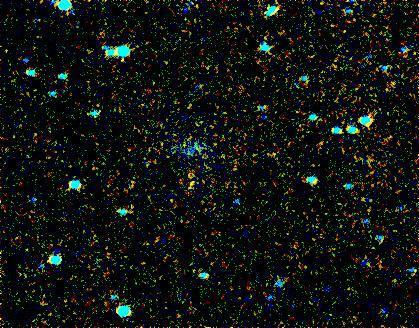star: (167, 165, 197, 195)
